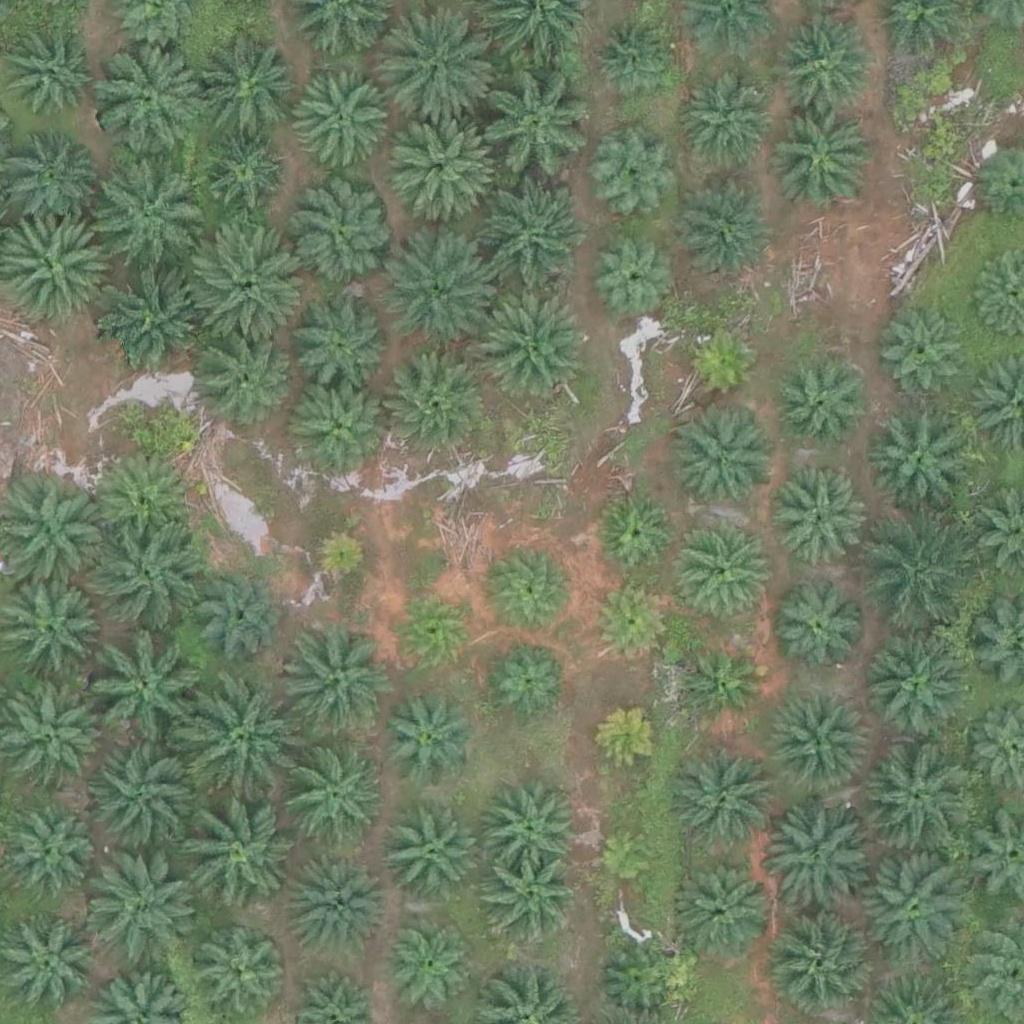Kelapa_Sawit: (860, 855, 973, 969), (667, 739, 780, 853), (385, 15, 498, 129), (863, 737, 976, 850), (765, 805, 878, 918), (86, 740, 199, 853), (861, 401, 974, 514), (862, 524, 975, 637), (472, 72, 585, 185), (87, 146, 200, 259), (100, 263, 213, 376), (183, 687, 296, 800), (89, 636, 202, 749), (85, 857, 197, 971), (471, 187, 583, 301), (475, 291, 587, 405), (377, 348, 489, 462), (90, 44, 202, 158), (179, 796, 291, 909), (385, 237, 497, 350), (385, 110, 497, 223), (192, 34, 304, 147), (192, 222, 304, 335), (280, 623, 392, 736), (95, 519, 207, 632), (766, 692, 866, 793), (779, 915, 879, 1016), (680, 856, 780, 957), (480, 776, 580, 877), (374, 689, 474, 790), (381, 805, 481, 906), (287, 745, 387, 846), (192, 918, 292, 1019), (775, 18, 875, 119), (771, 110, 871, 211), (772, 350, 872, 451), (772, 460, 872, 561), (765, 583, 865, 684), (676, 66, 776, 167), (677, 175, 777, 276), (670, 412, 770, 513), (669, 520, 769, 621), (291, 72, 391, 173), (291, 184, 391, 285), (293, 293, 393, 394), (188, 332, 288, 433), (1, 129, 101, 230), (5, 16, 105, 117), (94, 449, 194, 550), (2, 583, 102, 684), (283, 860, 383, 960), (870, 634, 970, 734), (293, 379, 393, 479), (384, 927, 472, 1016), (489, 856, 577, 944), (680, 316, 768, 404), (488, 544, 576, 632), (488, 636, 576, 724), (586, 576, 674, 664), (594, 487, 682, 575), (876, 307, 964, 395), (589, 232, 677, 320), (593, 124, 681, 212), (196, 130, 284, 218), (201, 569, 289, 657), (9, 810, 96, 898), (389, 586, 476, 674), (679, 636, 766, 724), (591, 16, 678, 104), (591, 698, 666, 774), (306, 527, 369, 590), (596, 827, 658, 890)
